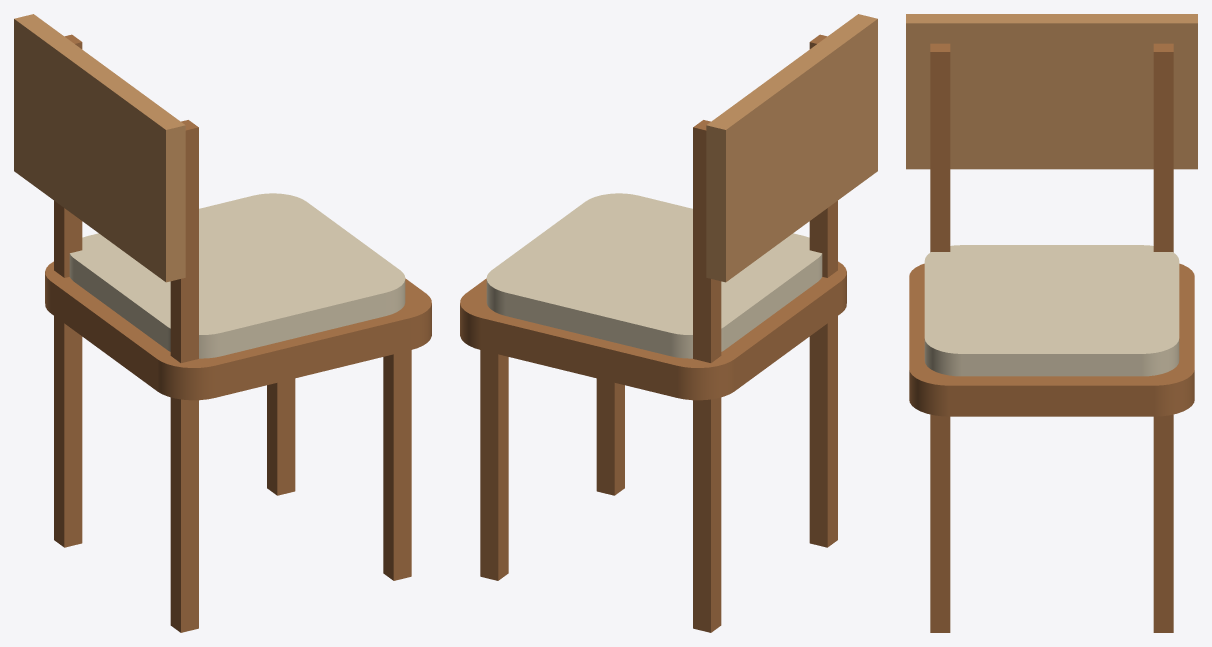
File: dining-chair-03.gltf
The picture shows the model from 3 angles, left to right: view 1: azimuth 30°, elevation 25°; view 2: azimuth 150°, elevation 25°; view 3: azimuth 270°, elevation 25°; orthographic projection. The views are drawn at different scales.
Visible parts, largest first — view 1: Dining chair 3 linen cushion, Dining chair 3 curved-look back, Dining chair 3 back leg (×2), Dining chair 3 oak seat, Dining chair 3 front leg (×2); view 2: Dining chair 3 linen cushion, Dining chair 3 curved-look back, Dining chair 3 back leg (×2), Dining chair 3 oak seat, Dining chair 3 front leg (×2); view 3: Dining chair 3 curved-look back, Dining chair 3 linen cushion, Dining chair 3 oak seat, Dining chair 3 front leg (×2), Dining chair 3 back leg (×2).
Part boxes in pixels (left/top/right/bottom): Dining chair 3 linen cushion: left=69, top=193, right=405, bottom=358; Dining chair 3 curved-look back: left=14, top=14, right=185, bottom=282; Dining chair 3 back leg (×2): left=54, top=34, right=198, bottom=632; Dining chair 3 oak seat: left=45, top=261, right=431, bottom=400; Dining chair 3 front leg (×2): left=267, top=350, right=411, bottom=580; Dining chair 3 linen cushion: left=486, top=193, right=822, bottom=358; Dining chair 3 curved-look back: left=706, top=14, right=877, bottom=282; Dining chair 3 back leg (×2): left=693, top=34, right=837, bottom=632; Dining chair 3 oak seat: left=460, top=261, right=846, bottom=400; Dining chair 3 front leg (×2): left=480, top=350, right=624, bottom=580; Dining chair 3 curved-look back: left=906, top=14, right=1197, bottom=169; Dining chair 3 linen cushion: left=924, top=245, right=1179, bottom=376; Dining chair 3 oak seat: left=909, top=263, right=1194, bottom=416; Dining chair 3 front leg (×2): left=930, top=414, right=1173, bottom=632; Dining chair 3 back leg (×2): left=930, top=43, right=1173, bottom=252.
Size of the model in its own units: 0.505 by 0.885 by 0.47.
